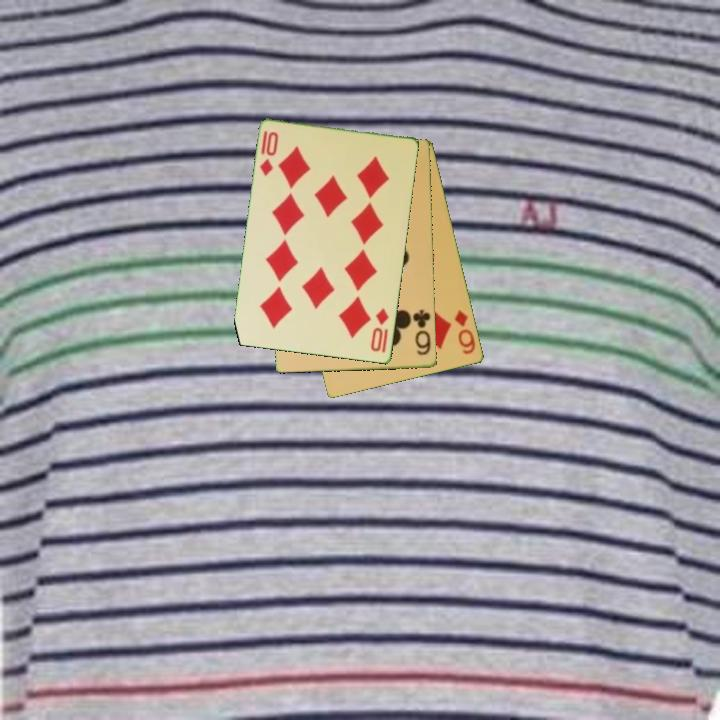10d: (367, 305, 392, 356), (257, 127, 281, 179)
6c: (410, 306, 434, 358)
6d: (451, 306, 479, 357)
